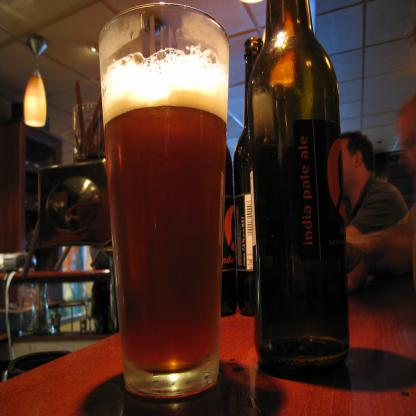drinking: (100, 4, 230, 396), (246, 0, 350, 375)
